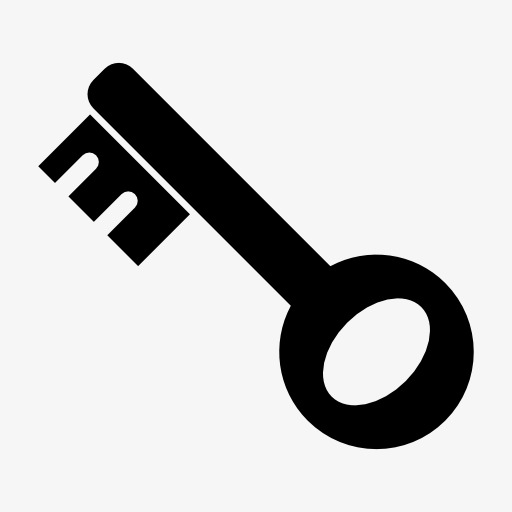key: (28, 53, 482, 472)
